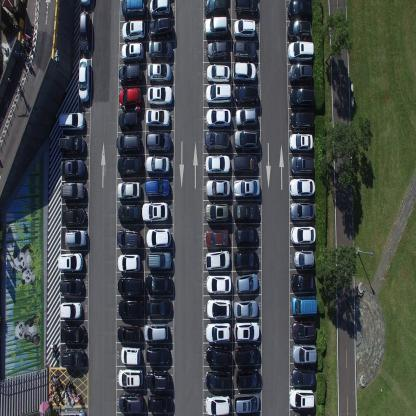car: (144, 272, 173, 294), (289, 85, 314, 110), (205, 82, 231, 106), (233, 390, 260, 413), (232, 177, 260, 199), (58, 134, 86, 156), (78, 56, 91, 103), (118, 297, 144, 320), (204, 203, 230, 226), (145, 178, 171, 201), (233, 320, 260, 342), (117, 275, 144, 297), (142, 202, 169, 224), (288, 387, 315, 409), (291, 294, 318, 316), (287, 40, 314, 62), (233, 129, 260, 151), (116, 155, 143, 177), (58, 111, 85, 133), (145, 130, 172, 152), (205, 248, 230, 271), (146, 227, 171, 250), (292, 342, 317, 365), (286, 18, 311, 41), (232, 60, 257, 83), (148, 38, 173, 61), (148, 15, 173, 38), (204, 320, 230, 342), (146, 249, 172, 271), (232, 203, 258, 225), (205, 394, 231, 416), (291, 318, 317, 340), (290, 271, 316, 293), (289, 154, 315, 176), (289, 110, 315, 132), (232, 152, 258, 174), (204, 130, 230, 152), (147, 85, 173, 107), (204, 15, 230, 37), (288, 178, 315, 199), (118, 63, 142, 86), (144, 369, 169, 391), (233, 298, 258, 320), (206, 298, 231, 320), (233, 248, 258, 270), (233, 226, 258, 248), (117, 229, 142, 251), (60, 346, 85, 368), (119, 391, 144, 413), (235, 367, 260, 389), (206, 345, 231, 367), (205, 152, 230, 174), (145, 154, 170, 176), (145, 107, 170, 129), (205, 369, 231, 390), (290, 366, 316, 387), (206, 107, 232, 128), (145, 296, 172, 316), (118, 85, 141, 108), (62, 205, 86, 227), (206, 177, 230, 199), (232, 18, 256, 40), (121, 19, 145, 41), (79, 10, 91, 54), (290, 224, 315, 245), (232, 39, 257, 60), (142, 322, 168, 342), (60, 324, 86, 344), (235, 272, 258, 294), (117, 252, 140, 274), (206, 39, 228, 62), (235, 345, 259, 366), (206, 272, 230, 293), (61, 158, 85, 179), (148, 393, 172, 414), (145, 346, 170, 366), (289, 202, 314, 222), (288, 62, 313, 82), (147, 62, 172, 82), (60, 181, 86, 200), (58, 252, 84, 271), (121, 40, 144, 61), (118, 368, 142, 388), (234, 84, 258, 104), (206, 64, 230, 84), (116, 132, 140, 152), (116, 326, 141, 345), (289, 133, 314, 152), (120, 0, 146, 18), (118, 109, 139, 131), (205, 228, 228, 248), (119, 205, 142, 225), (60, 279, 84, 298), (118, 183, 142, 202), (286, 0, 311, 18), (204, 0, 229, 18), (293, 249, 315, 269), (235, 106, 257, 126), (64, 229, 87, 248), (120, 346, 141, 366), (60, 302, 82, 320), (234, 0, 258, 16), (148, 0, 171, 15), (58, 408, 87, 415), (80, 0, 92, 8)
